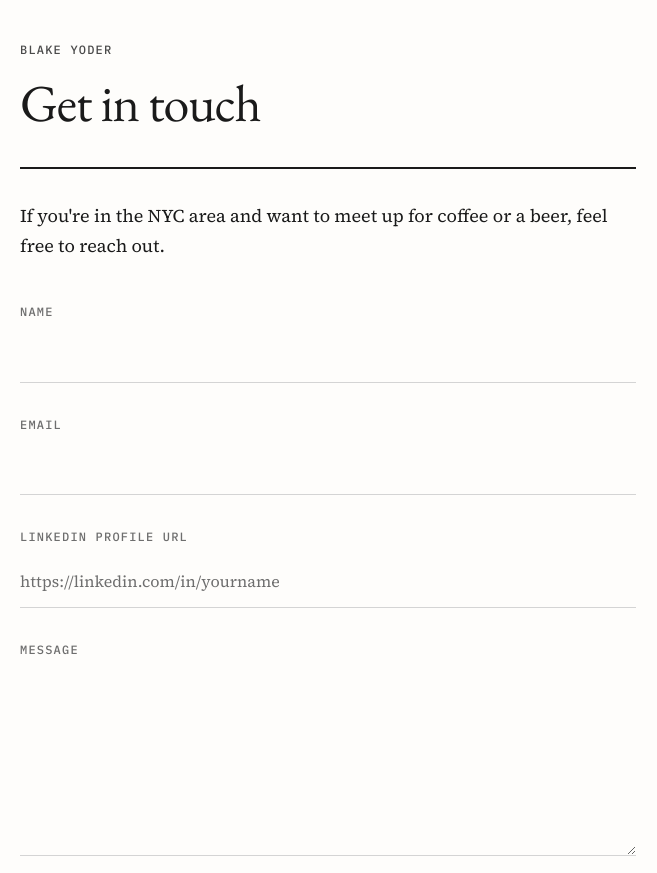
it: ContactForm › announces a form-level failure in an alert region
Type "Blake" into the field labelled "Name".
click(328, 356); type("Blake")  # box [20,330,636,383]
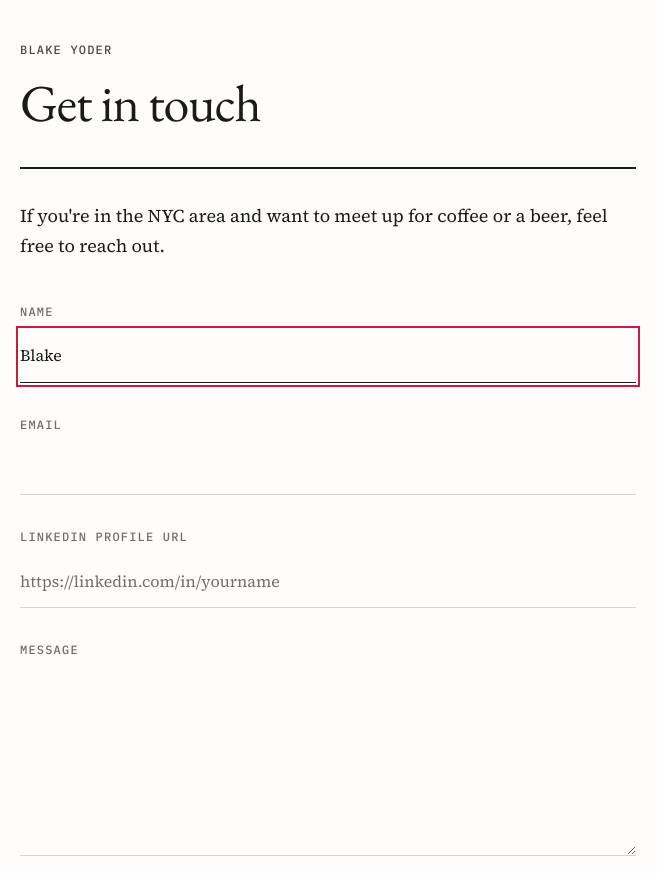
Type "visitor@example.com" into the field labelled "Email".
click(328, 469); type("visitor@example.com")  # box [20,443,636,495]
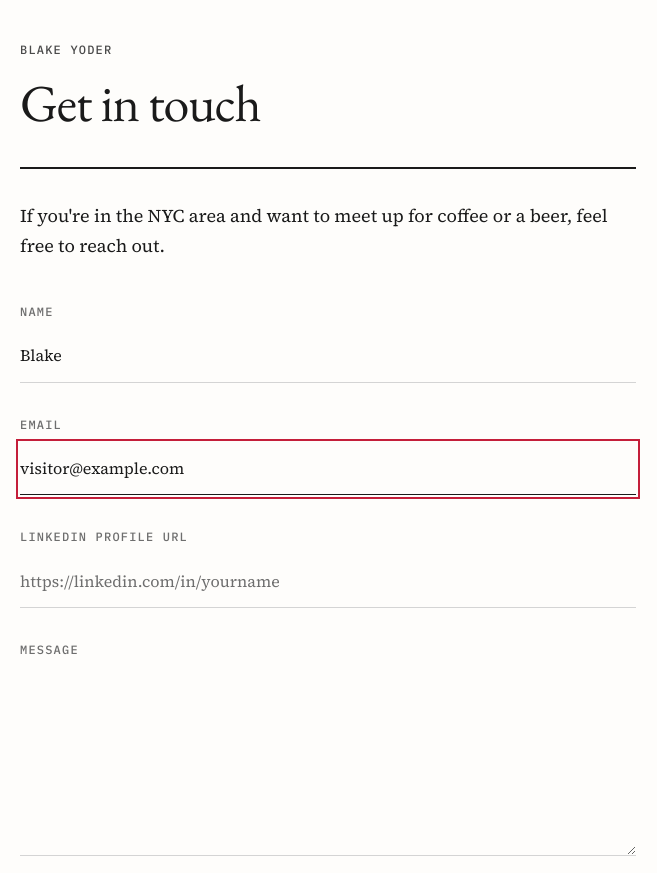
Type "https://linkedin.com/in/someone" into the field labelled "LinkedIn Profile URL".
click(328, 582); type("https://linkedin.com/in/someone")  # box [20,556,636,608]
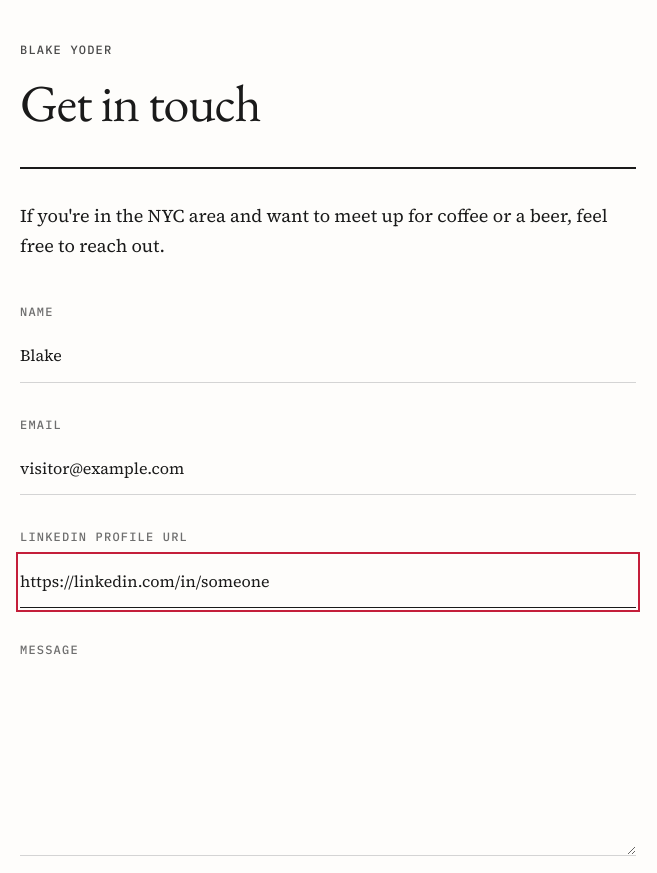
Type "Hello there, this is me." into the text box labelled "Message".
click(328, 762); type("Hello there, this is me.")  # box [20,668,636,856]
(page scrolled)
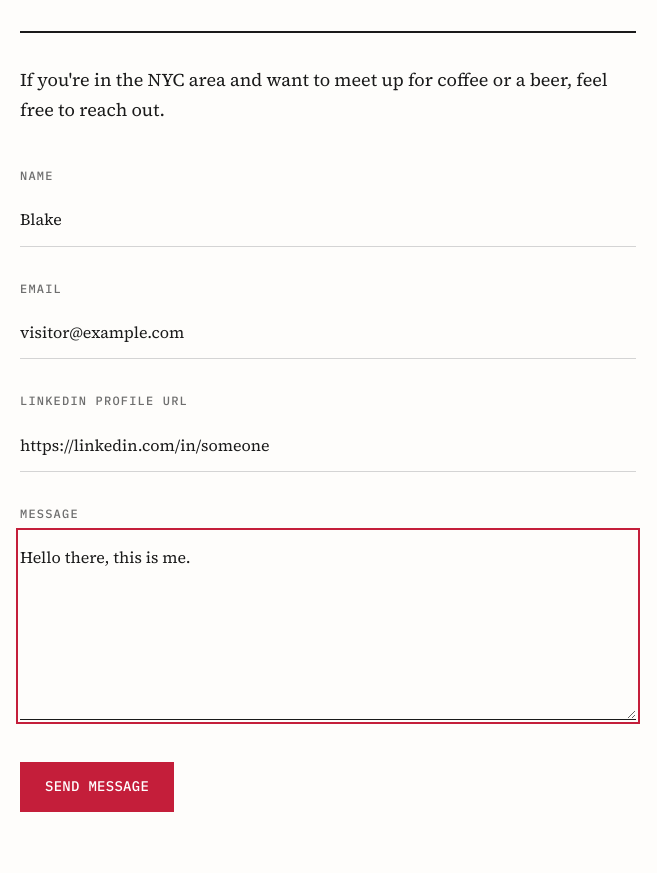
Click the button "Send message".
click(97, 787)  # box [20,762,174,812]
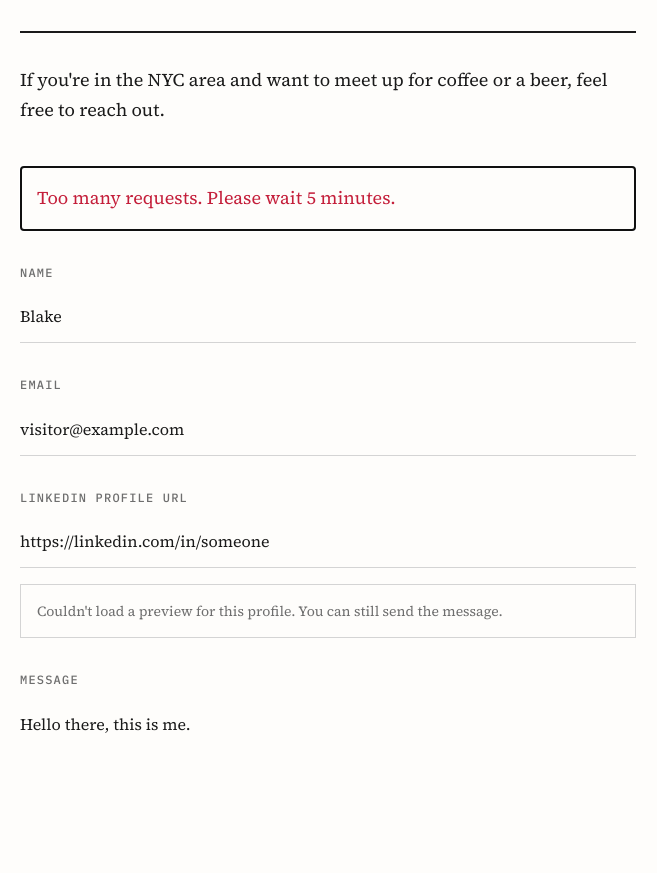
Now the message shows "Too many requests", box [37,185,396,210]
